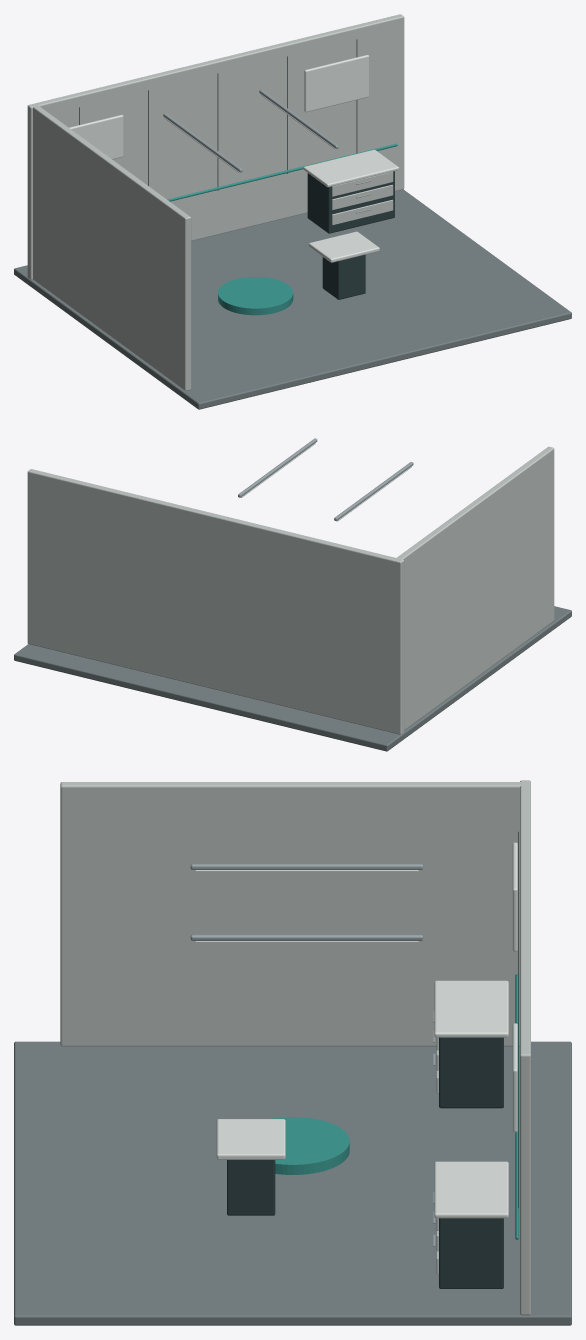
File: biology-room-v1.glb
3 views of the same model, one above another, from view 1: azimuth 30°, elevation 25°; view 2: azimuth 150°, elevation 25°; view 3: azimuth 270°, elevation 25° (orthographic). The views are drawn at different scales.
Visible parts, largest first — view 1: room-warm-ceramic, room-mineral-floor, room-solid-surface, room-graphite-cabinet, room-teal-trim, room-brushed-aluminium; view 2: room-warm-ceramic, room-mineral-floor, room-brushed-aluminium; view 3: room-mineral-floor, room-warm-ceramic, room-solid-surface, room-graphite-cabinet, room-teal-trim, room-brushed-aluminium.
Boxes of the visible parts, <box> form: room-warm-ceramic: <box>27,14,404,391</box>; room-mineral-floor: <box>14,189,571,409</box>; room-solid-surface: <box>69,55,399,262</box>; room-graphite-cabinet: <box>79,39,394,299</box>; room-teal-trim: <box>167,143,397,315</box>; room-brushed-aluminium: <box>163,89,371,213</box>; room-warm-ceramic: <box>27,446,554,734</box>; room-mineral-floor: <box>14,606,571,751</box>; room-brushed-aluminium: <box>238,438,413,520</box>; room-mineral-floor: <box>14,1041,571,1325</box>; room-warm-ceramic: <box>60,780,530,1315</box>; room-solid-surface: <box>195,842,517,1218</box>; room-graphite-cabinet: <box>227,831,518,1288</box>; room-teal-trim: <box>271,974,518,1239</box>; room-brushed-aluminium: <box>190,864,435,1246</box>.
Bounding box in the file's own units: 7 × 3.22 × 6.
